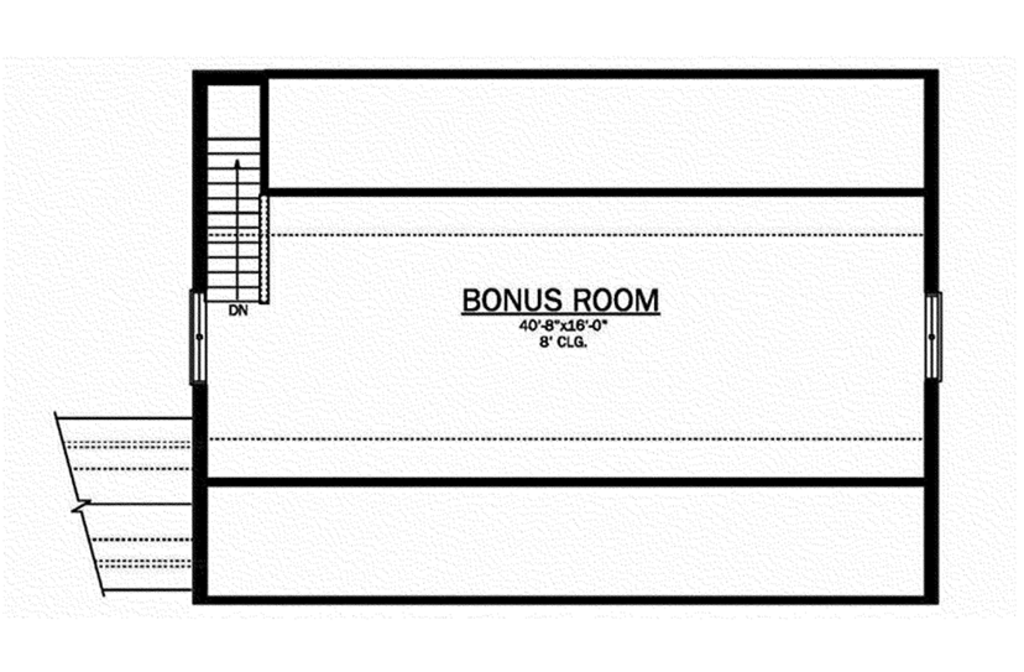stairs: (198, 82, 275, 311)
window: (184, 286, 218, 388), (922, 291, 955, 392)
